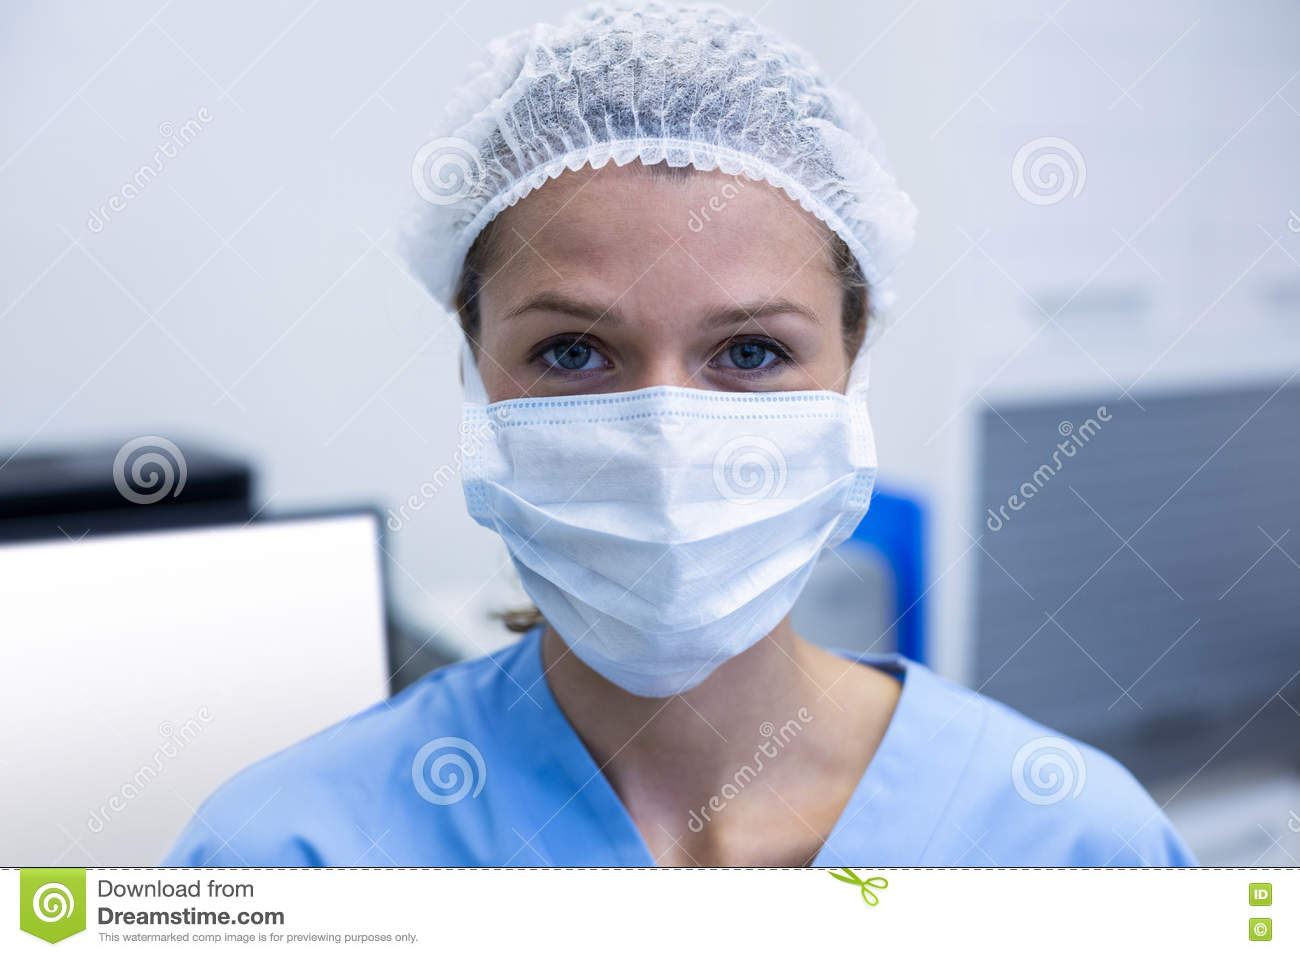mask: (445, 386, 895, 671)
